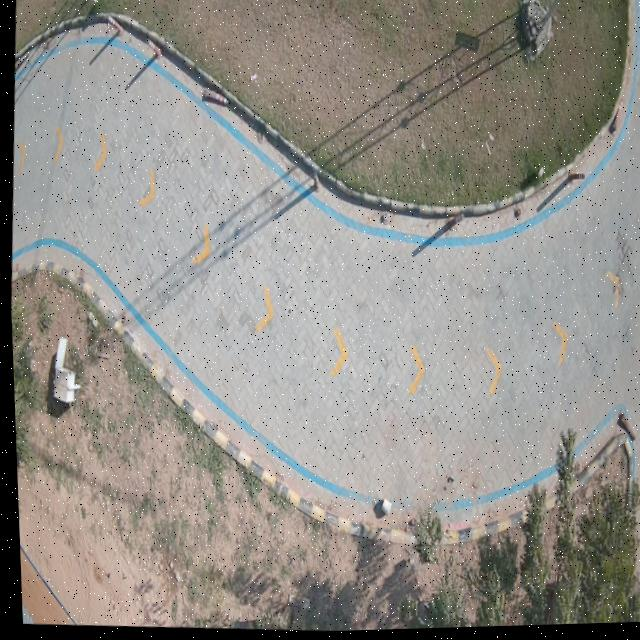No Car: (9, 0, 640, 633)
